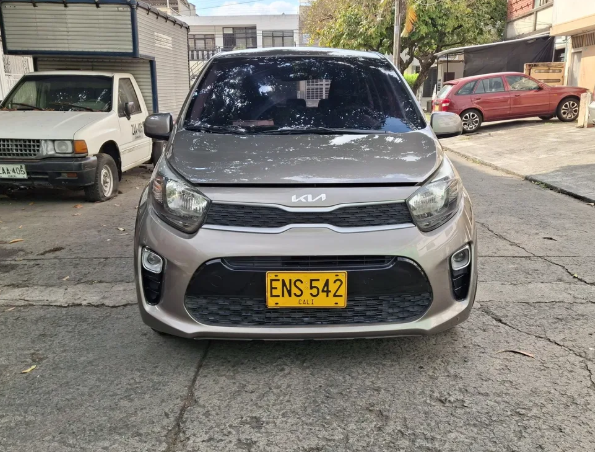placa: (266, 272, 347, 310)
